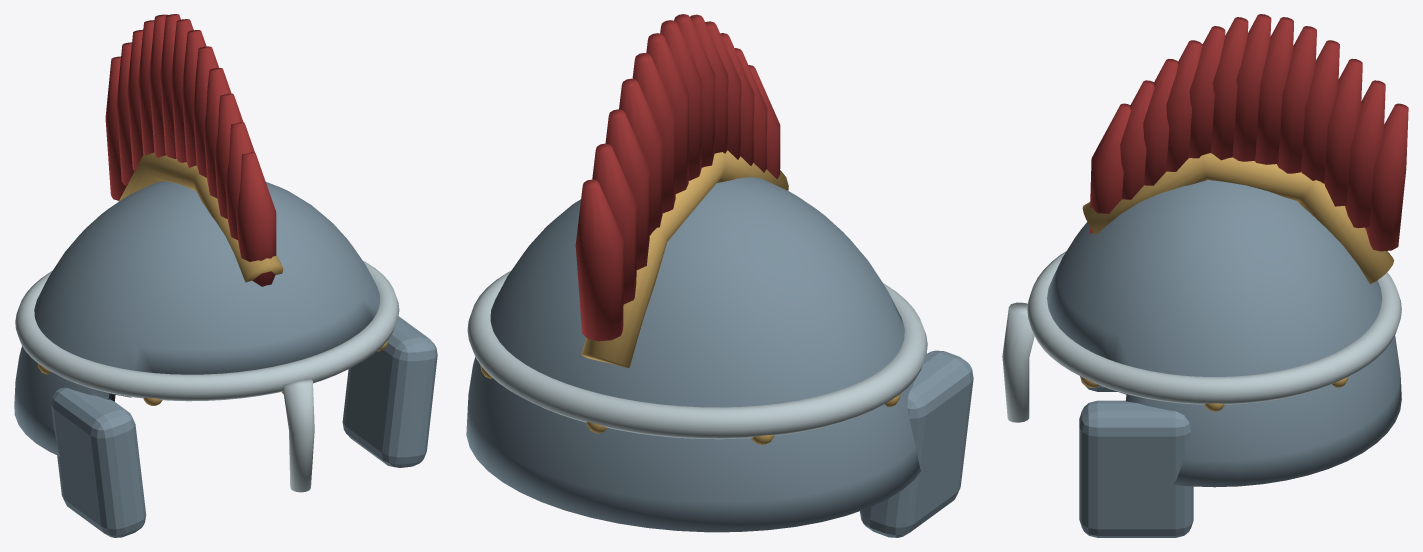
File: plumed-helm.glb
The picture shows the model from 3 angles, left to right: view 1: azimuth 30°, elevation 25°; view 2: azimuth 150°, elevation 25°; view 3: azimuth 270°, elevation 25°; orthographic projection. The views are drawn at different scales.
Visible parts, largest first — view 1: Open-faced iron shell.001, Brow rim.001, Articulated cheek plate.002, Articulated cheek plate.003, Layered crimson crest.012, Plume brass saddle, Nasal guard.001, Layered crimson crest.010, Layered crimson crest.009, Layered crimson crest.006, Layered crimson crest.007, Layered crimson crest (+7 smaller); view 2: Open-faced iron shell.001, Brow rim.001, Articulated cheek plate.002, Layered crimson crest, Plume brass saddle, Layered crimson crest.001, Layered crimson crest.002, Layered crimson crest.003, Layered crimson crest.004, Layered crimson crest.005, Layered crimson crest.006, Layered crimson crest.007 (+5 smaller); view 3: Open-faced iron shell.001, Articulated cheek plate.003, Brow rim.001, Plume brass saddle, Layered crimson crest, Layered crimson crest.001, Layered crimson crest.002, Layered crimson crest.004, Layered crimson crest.005, Layered crimson crest.003, Layered crimson crest.006, Layered crimson crest.007 (+6 smaller).
Part boxes in pixels (<box>): Open-faced iron shell.001: <box>14,181,379,456</box>; Brow rim.001: <box>15,261,399,401</box>; Articulated cheek plate.002: <box>51,387,146,537</box>; Articulated cheek plate.003: <box>342,316,437,467</box>; Layered crimson crest.012: <box>236,152,276,286</box>; Plume brass saddle: <box>118,152,283,282</box>; Nasal guard.001: <box>283,378,314,492</box>; Layered crimson crest.010: <box>214,93,243,218</box>; Layered crimson crest.009: <box>203,68,231,198</box>; Layered crimson crest.006: <box>171,19,193,162</box>; Layered crimson crest.007: <box>182,30,206,167</box>; Layered crimson crest: <box>105,56,126,200</box>; Open-faced iron shell.001: <box>466,177,920,532</box>; Brow rim.001: <box>467,271,927,439</box>; Articulated cheek plate.002: <box>860,350,973,537</box>; Layered crimson crest: <box>575,179,623,341</box>; Plume brass saddle: <box>581,150,788,368</box>; Layered crimson crest.001: <box>592,143,636,304</box>; Layered crimson crest.002: <box>605,109,649,269</box>; Layered crimson crest.003: <box>619,78,662,235</box>; Layered crimson crest.004: <box>632,53,675,213</box>; Layered crimson crest.005: <box>646,33,688,193</box>; Layered crimson crest.006: <box>660,20,701,180</box>; Layered crimson crest.007: <box>674,14,715,167</box>; Open-faced iron shell.001: <box>1047,180,1401,487</box>; Articulated cheek plate.003: <box>1079,400,1193,537</box>; Brow rim.001: <box>1027,251,1401,404</box>; Plume brass saddle: <box>1082,153,1394,284</box>; Layered crimson crest: <box>1365,103,1408,251</box>; Layered crimson crest.001: <box>1345,80,1385,228</box>; Layered crimson crest.002: <box>1324,58,1362,206</box>; Layered crimson crest.004: <box>1277,26,1316,173</box>; Layered crimson crest.005: <box>1255,17,1293,164</box>; Layered crimson crest.003: <box>1301,40,1339,183</box>; Layered crimson crest.006: <box>1232,14,1271,161</box>; Layered crimson crest.007: <box>1210,17,1248,160</box>.
Bounding box in the file's own units: 0.8044 × 0.944 × 0.7809.
